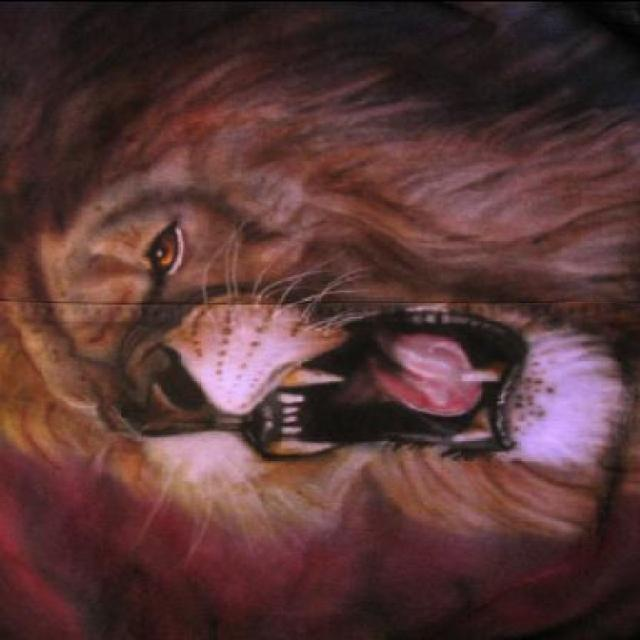Lion: (0, 1, 638, 638)
